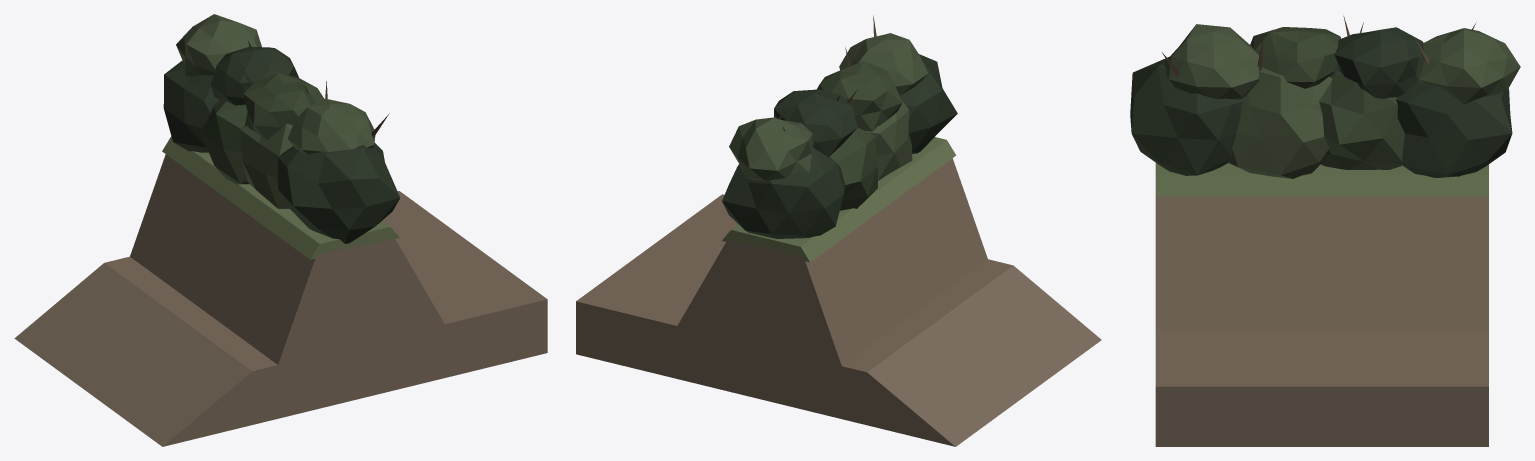
File: bree_dike_hedge.glb
3 views of the same model, side by side, from view 1: azimuth 30°, elevation 25°; view 2: azimuth 150°, elevation 25°; view 3: azimuth 270°, elevation 25° (orthographic). The views are drawn at different scales.
Visible parts, largest first — view 1: bree_dike_hedge; view 2: bree_dike_hedge; view 3: bree_dike_hedge.
Boxes of the visible parts, bbox=[...] form: bree_dike_hedge: bbox=[14, 14, 547, 446]; bree_dike_hedge: bbox=[576, 15, 1101, 446]; bree_dike_hedge: bbox=[1130, 16, 1520, 446].
Size of what is drawn, in the model's own units: 6 by 4.19 by 4.69.
